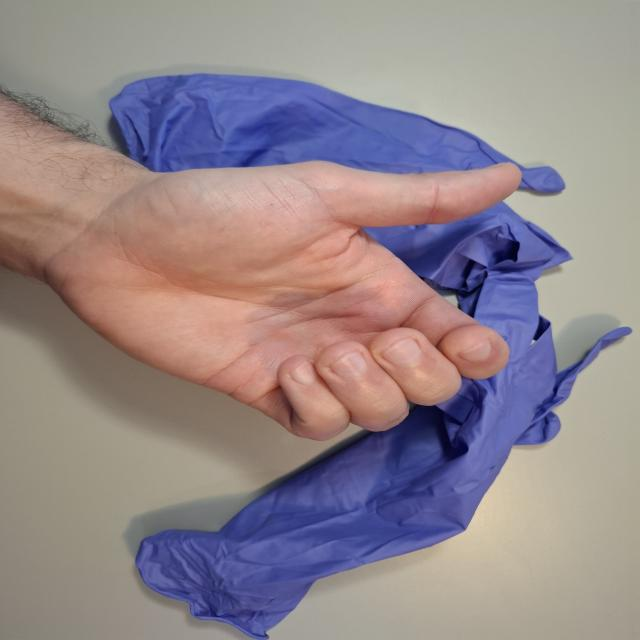glove_off: (27, 127, 526, 444)
